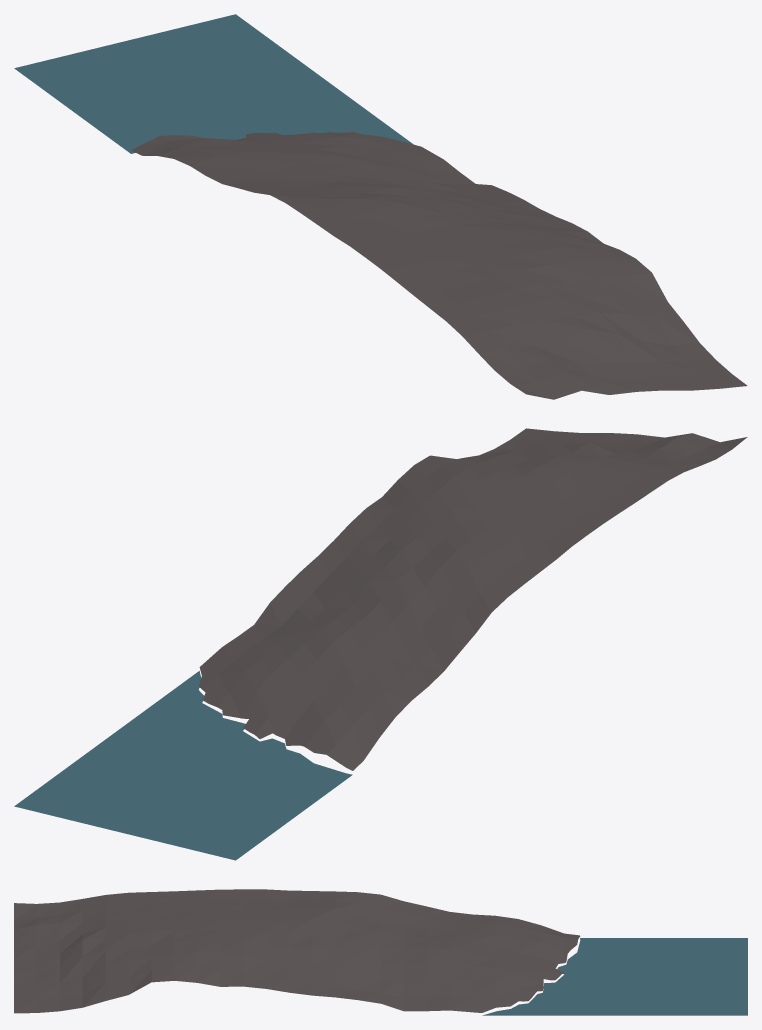
3 renders of one model, top to bottom at view 1: azimuth 30°, elevation 25°; view 2: azimuth 150°, elevation 25°; view 3: azimuth 270°, elevation 25°, orthographic. The views are drawn at different scales.
Visible parts, largest first — view 1: c_p06_p08; view 2: c_p06_p08; view 3: c_p06_p08.
Part boxes in pixels (left/top/right/bottom): c_p06_p08: left=14, top=14, right=747, bottom=399; c_p06_p08: left=14, top=428, right=747, bottom=860; c_p06_p08: left=14, top=889, right=747, bottom=1015.
Size of the model in its own units: 32 by 9.36 by 128.
